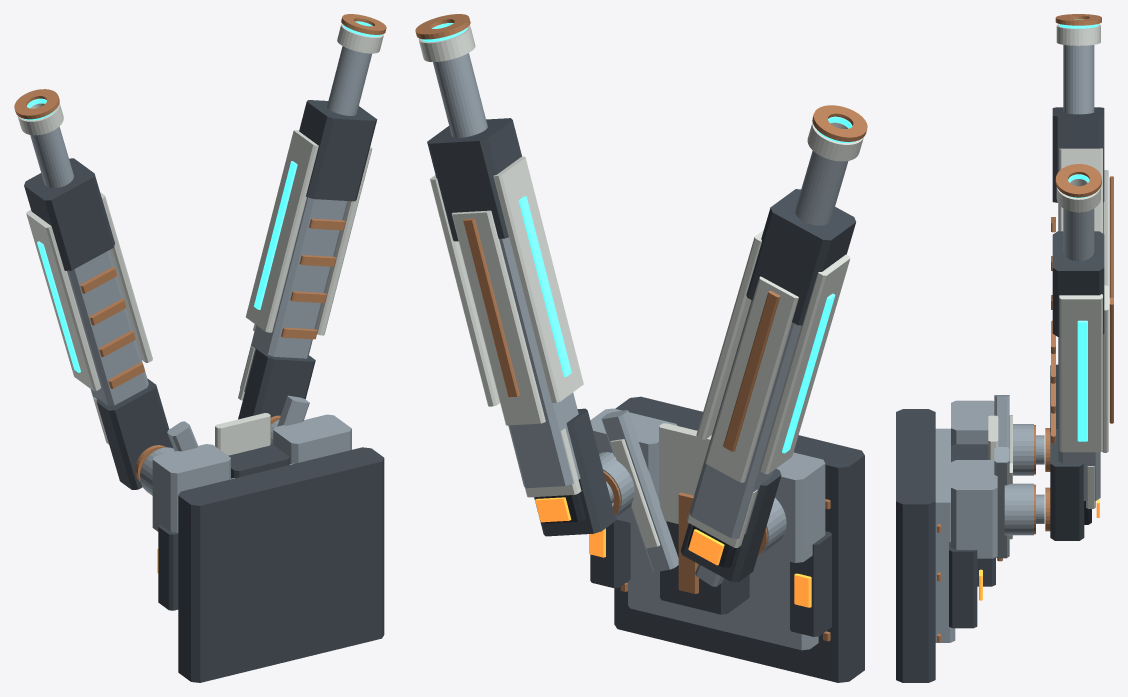
File: M01-015_bidirectional_turret.glb
3 views of the same model, side by side, from view 1: azimuth 30°, elevation 25°; view 2: azimuth 150°, elevation 25°; view 3: azimuth 270°, elevation 25° (orthographic). The views are drawn at different scales.
Parts seen in each view (by area): view 1: M01_015_Mount_Top_Socket, M01_015_Arm_Long_Carrier_R, M01_015_Arm_Front_Shell_L, M01_015_Arm_Front_Shell_R, M01_015_Arm_Long_Carrier_L, M01_015_Arm_Flank_RA, M01_015_Arm_Root_L, M01_015_Pedestal_L, M01_015_Arm_Root_R, M01_015_Arm_Flank_LA, M01_015_Pedestal_R, M01_015_Arm_Barrel_R (+14 smaller); view 2: M01_015_Mount_Top_Socket, M01_015_Mount_Grip_Titanium, M01_015_Arm_Flank_RA, M01_015_Arm_Dorsal_Ceramic_R, M01_015_Arm_Front_Shell_L, M01_015_Arm_Dorsal_Ceramic_L, M01_015_Arm_Front_Shell_R, M01_015_Arm_Long_Carrier_R, M01_015_Arm_Long_Carrier_L, M01_015_Arm_Flank_LA, M01_015_Pedestal_L, M01_015_Arm_Root_R (+27 smaller); view 3: M01_015_Mount_Top_Socket, M01_015_Arm_Flank_RB, M01_015_Pedestal_R, M01_015_Mount_Grip_Titanium, M01_015_Arm_Front_Shell_R, M01_015_Arm_Root_R, M01_015_Arm_Front_Shell_L, M01_015_Side_Rear_Armor_R, M01_015_Arm_Barrel_L, M01_015_Pedestal_L, M01_015_Bearing_Ring_R, M01_015_Arm_Barrel_R (+17 smaller).
Part boxes in pixels (left/top/right/bottom): M01_015_Mount_Top_Socket: left=178, top=447, right=384, bottom=682; M01_015_Arm_Long_Carrier_R: left=240, top=197, right=348, bottom=391; M01_015_Arm_Front_Shell_L: left=24, top=158, right=114, bottom=270; M01_015_Arm_Front_Shell_R: left=299, top=100, right=377, bottom=201; M01_015_Arm_Long_Carrier_L: left=67, top=250, right=148, bottom=405; M01_015_Arm_Flank_RA: left=246, top=130, right=318, bottom=332; M01_015_Arm_Root_L: left=96, top=378, right=173, bottom=489; M01_015_Pedestal_L: left=152, top=444, right=230, bottom=532; M01_015_Arm_Root_R: left=238, top=347, right=315, bottom=419; M01_015_Arm_Flank_LA: left=26, top=210, right=100, bottom=391; M01_015_Pedestal_R: left=273, top=414, right=351, bottom=463; M01_015_Arm_Barrel_R: left=327, top=46, right=371, bottom=115; M01_015_Mount_Top_Socket: left=614, top=396, right=864, bottom=682; M01_015_Mount_Grip_Titanium: left=628, top=523, right=818, bottom=650; M01_015_Arm_Flank_RA: left=493, top=156, right=583, bottom=402; M01_015_Arm_Dorsal_Ceramic_R: left=451, top=210, right=545, bottom=425; M01_015_Arm_Front_Shell_L: left=746, top=189, right=855, bottom=325; M01_015_Arm_Dorsal_Ceramic_L: left=705, top=276, right=798, bottom=482; M01_015_Arm_Front_Shell_R: left=427, top=118, right=522, bottom=241; M01_015_Arm_Long_Carrier_R: left=499, top=237, right=580, bottom=488; M01_015_Arm_Long_Carrier_L: left=689, top=300, right=801, bottom=538; M01_015_Arm_Flank_LA: left=759, top=254, right=850, bottom=474; M01_015_Pedestal_L: left=761, top=452, right=825, bottom=562; M01_015_Arm_Root_R: left=534, top=408, right=615, bottom=536; M01_015_Mount_Top_Socket: left=896, top=409, right=935, bottom=682; M01_015_Arm_Flank_RB: left=1059, top=294, right=1102, bottom=452; M01_015_Pedestal_R: left=951, top=460, right=997, bottom=558; M01_015_Mount_Grip_Titanium: left=935, top=428, right=955, bottom=642; M01_015_Arm_Front_Shell_R: left=1052, top=231, right=1104, bottom=336; M01_015_Arm_Root_R: left=1050, top=429, right=1084, bottom=540; M01_015_Arm_Front_Shell_L: left=1052, top=107, right=1104, bottom=202; M01_015_Side_Rear_Armor_R: left=949, top=542, right=977, bottom=628; M01_015_Arm_Barrel_L: left=1063, top=45, right=1094, bottom=114; M01_015_Pedestal_L: left=951, top=400, right=994, bottom=445; M01_015_Bearing_Ring_R: left=1004, top=483, right=1033, bottom=535; M01_015_Arm_Barrel_R: left=1063, top=208, right=1094, bottom=261.
Bounding box in the file's own units: 1.51 × 2.13 × 0.7735.
